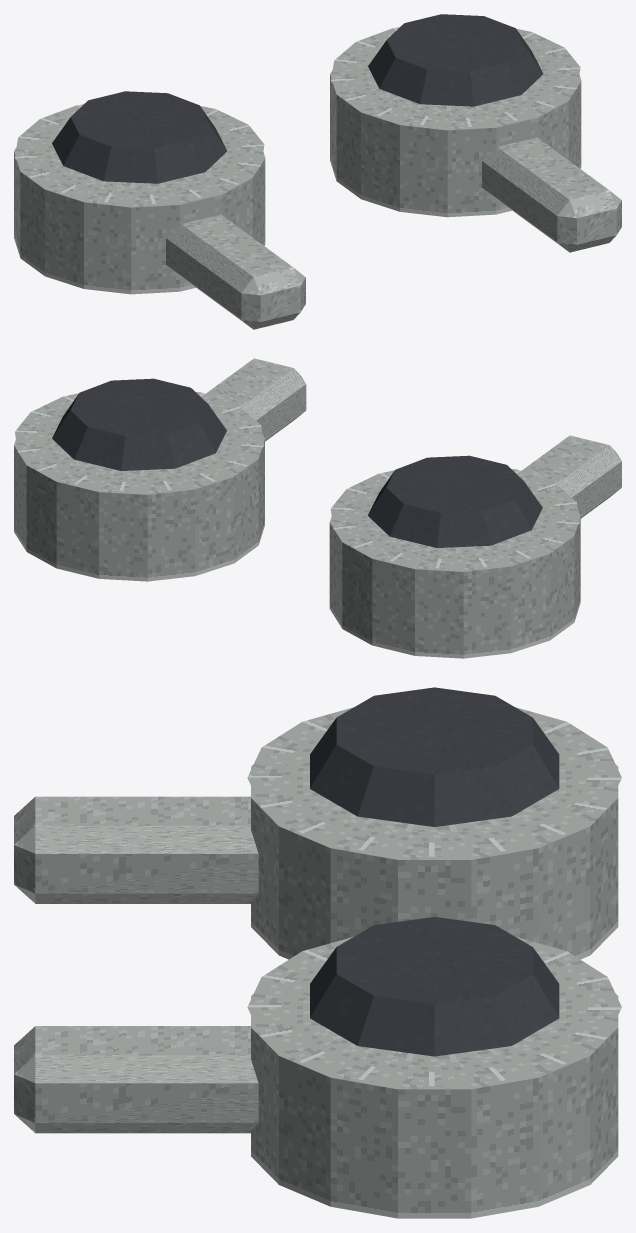
File: onyx_silver_cufflinks.glb
3 views of the same model, one above another, from view 1: azimuth 30°, elevation 25°; view 2: azimuth 150°, elevation 25°; view 3: azimuth 270°, elevation 25° (orthographic). The views are drawn at different scales.
Visible parts, largest first — view 1: block_metal disc (×2), block_inset faceted stone (×2), block_cufflink pin (×2), block_raised border 6 (×2), block_raised border 4 (×2), block_raised border 5 (×2), block_raised border 7 (×2), block_raised border 3 (×2), block_raised border 1 (×2), block_raised border 9 (×2), block_raised border 2 (×2), block_raised border 8 (×2) (+2 smaller); view 2: block_metal disc (×2), block_inset faceted stone (×2), block_cufflink pin (×2), block_raised border 10 (×2), block_raised border 9 (×2), block_raised border 11 (×2), block_raised border 12 (×2), block_raised border 8 (×2), block_raised border 13 (×2), block_raised border 5 (×2), block_raised border 7 (×2), block_raised border 6 (×2) (+3 smaller); view 3: block_metal disc (×2), block_inset faceted stone (×2), block_cufflink pin (×2), block_raised border 0 (×2), block_raised border 15 (×2), block_raised border 1 (×2), block_raised border 14 (×2), block_raised border 12 (×2), block_raised border 3 (×2), block_raised border 4 (×2), block_raised border 11 (×2), block_raised border 10 (×2) (+3 smaller).
Part boxes in pixels (left/top/right/bottom): block_metal disc (×2): left=14, top=44, right=581, bottom=294; block_inset faceted stone (×2): left=52, top=14, right=543, bottom=183; block_cufflink pin (×2): left=166, top=137, right=621, bottom=329; block_raised border 6 (×2): left=63, top=109, right=428, bottom=202; block_raised border 4 (×2): left=153, top=112, right=517, bottom=203; block_raised border 5 (×2): left=107, top=116, right=471, bottom=204; block_raised border 7 (×2): left=31, top=96, right=392, bottom=193; block_raised border 3 (×2): left=191, top=101, right=554, bottom=197; block_raised border 1 (×2): left=239, top=67, right=580, bottom=164; block_raised border 9 (×2): left=15, top=60, right=355, bottom=158; block_raised border 2 (×2): left=222, top=85, right=576, bottom=183; block_raised border 8 (×2): left=15, top=80, right=365, bottom=177; block_metal disc (×2): left=14, top=408, right=580, bottom=658; block_inset faceted stone (×2): left=52, top=378, right=542, bottom=547; block_cufflink pin (×2): left=206, top=358, right=621, bottom=518; block_raised border 10 (×2): left=123, top=481, right=487, bottom=568; block_raised border 9 (×2): left=166, top=473, right=531, bottom=566; block_raised border 11 (×2): left=77, top=476, right=441, bottom=568; block_raised border 12 (×2): left=40, top=465, right=403, bottom=561; block_raised border 8 (×2): left=202, top=460, right=563, bottom=557; block_raised border 13 (×2): left=18, top=450, right=372, bottom=547; block_raised border 5 (×2): left=221, top=406, right=576, bottom=504; block_raised border 7 (×2): left=229, top=444, right=579, bottom=542; block_raised border 6 (×2): left=239, top=425, right=579, bottom=522; block_metal disc (×2): left=251, top=732, right=618, bottom=1218; block_inset faceted stone (×2): left=310, top=687, right=559, bottom=1056; block_cufflink pin (×2): left=14, top=796, right=258, bottom=1133; block_raised border 0 (×2): left=363, top=837, right=434, bottom=1086; block_raised border 15 (×2): left=434, top=837, right=505, bottom=1086; block_raised border 1 (×2): left=302, top=823, right=375, bottom=1080; block_raised border 14 (×2): left=493, top=823, right=566, bottom=1080; block_raised border 12 (×2): left=576, top=777, right=621, bottom=1037; block_raised border 3 (×2): left=247, top=777, right=292, bottom=1037; block_raised border 4 (×2): left=247, top=747, right=292, bottom=1007; block_raised border 11 (×2): left=576, top=747, right=621, bottom=1007; block_raised border 10 (×2): left=543, top=722, right=607, bottom=982.
Bounding box in the file's own units: 0.0278 × 0.00603 × 0.0184.
1 material, 1 textured.
